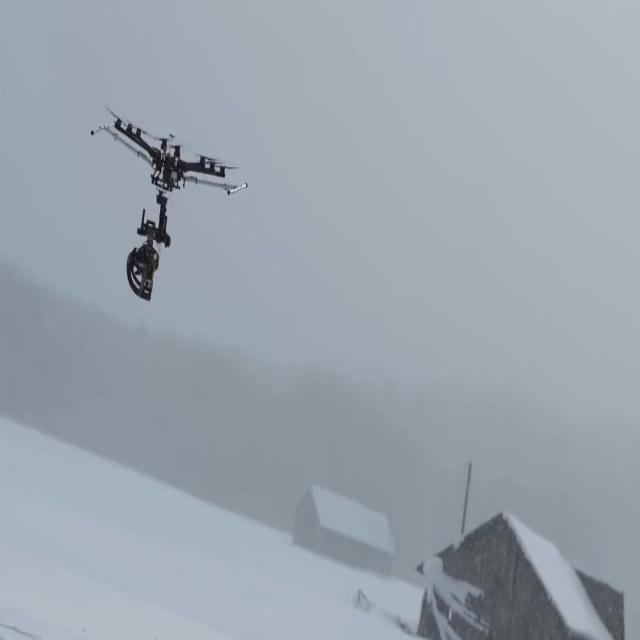drone: (89, 103, 248, 305)
